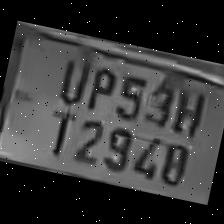2: (67, 110, 107, 166)
3: (140, 69, 180, 128)
4: (126, 126, 164, 180)
5: (108, 62, 151, 119)
8: (153, 134, 194, 188)
9: (96, 118, 135, 172)
H: (165, 78, 210, 138)
P: (79, 57, 119, 113)
T: (39, 100, 79, 158)
U: (50, 46, 92, 105)
